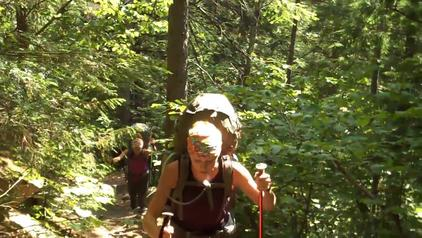sit: (117, 137, 151, 206)
